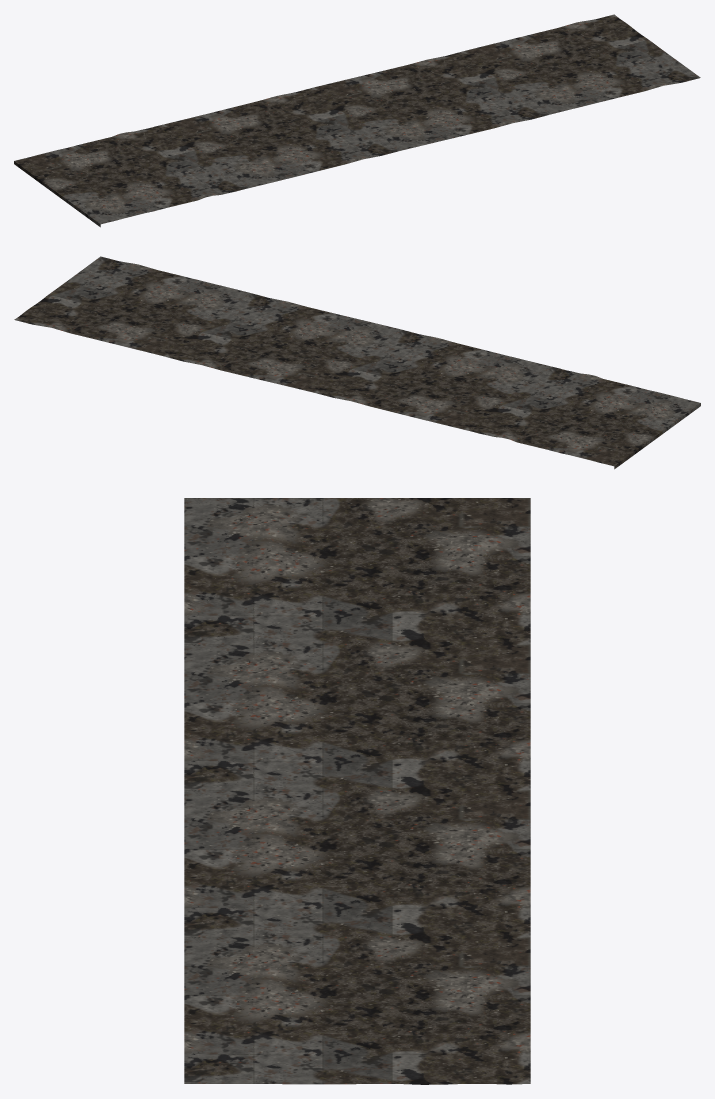
Rendered from Ground_Side_Right.fbx.
The picture shows the model from 3 angles, top to bottom: view 1: azimuth 30°, elevation 25°; view 2: azimuth 150°, elevation 25°; view 3: azimuth 270°, elevation 25°; orthographic projection. The views are drawn at different scales.
Visible parts, largest first — view 1: Ground_Side_Right; view 2: Ground_Side_Right; view 3: Ground_Side_Right.
Boxes of the visible parts, left/top/right/bottom form: Ground_Side_Right: left=14, top=14, right=700, bottom=227; Ground_Side_Right: left=14, top=256, right=700, bottom=469; Ground_Side_Right: left=184, top=498, right=530, bottom=1084.
Size of the model in its own units: 8000 by 68.09 by 2000.
